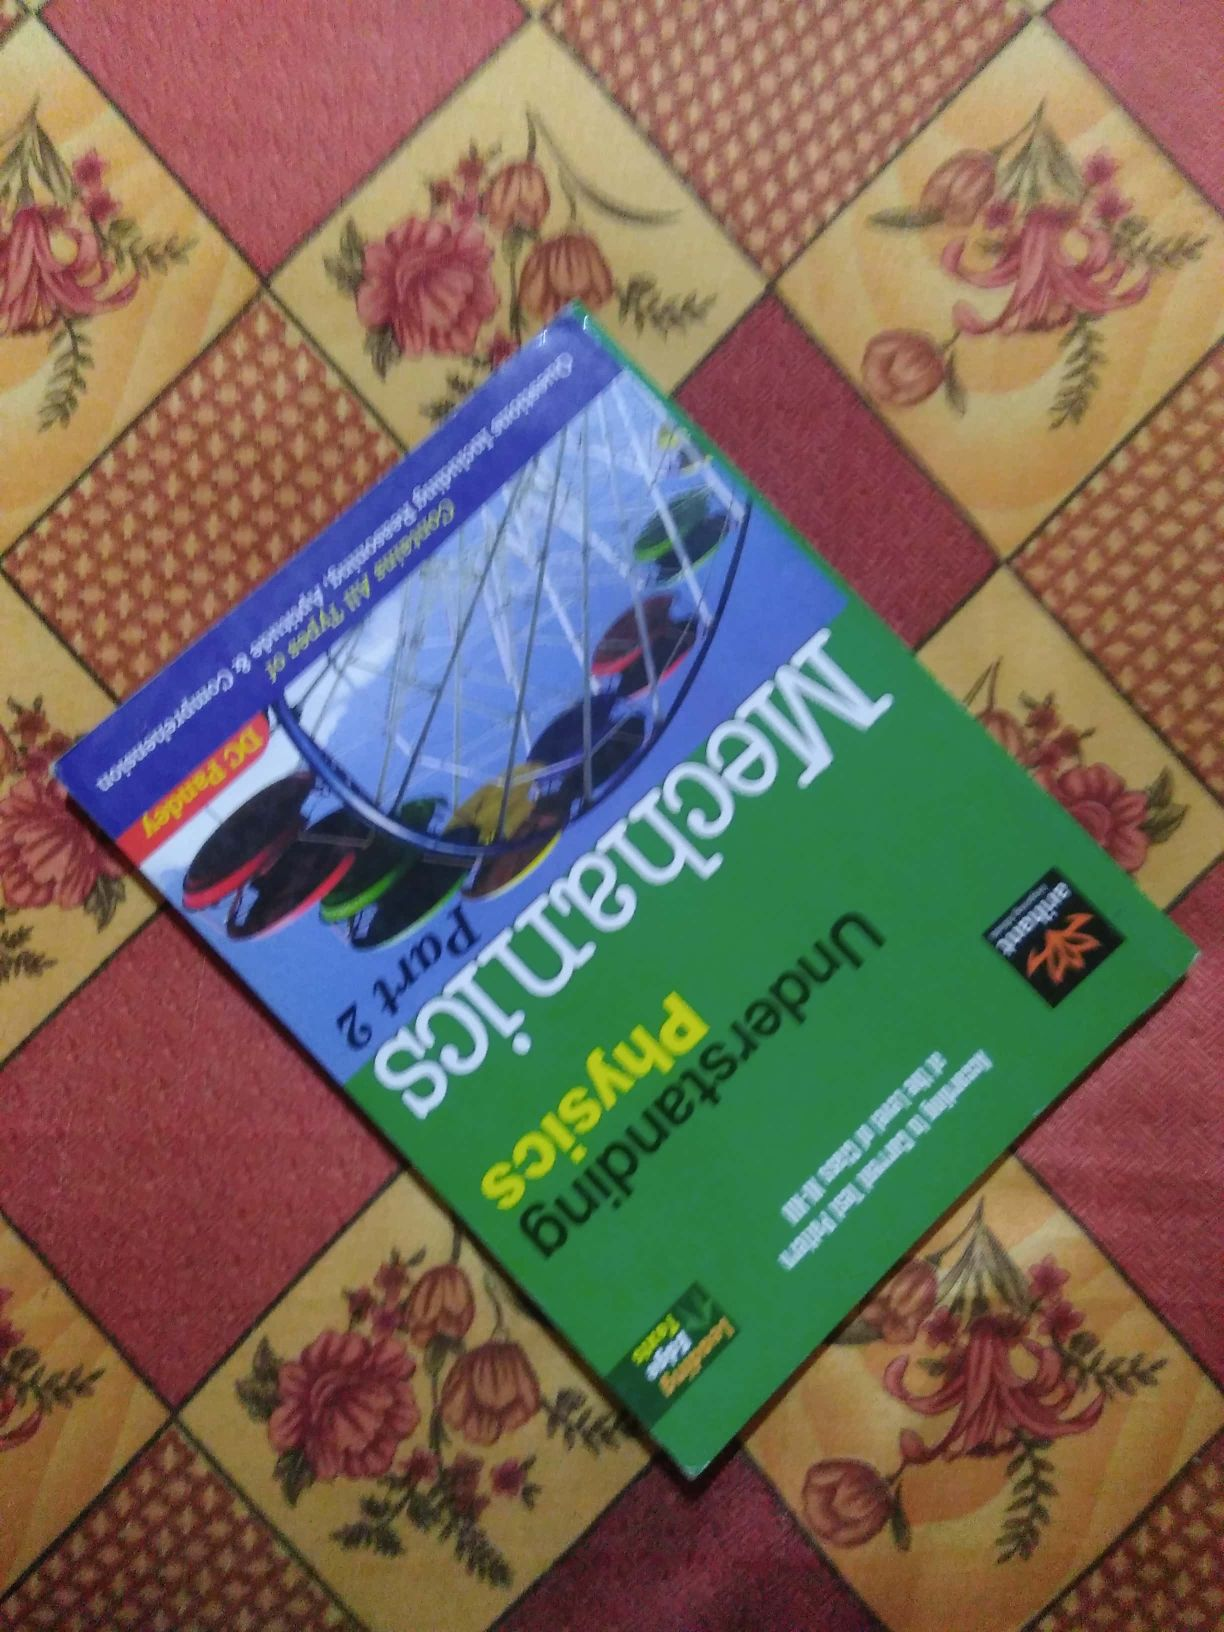mechanics: (105, 375, 1175, 1417)
